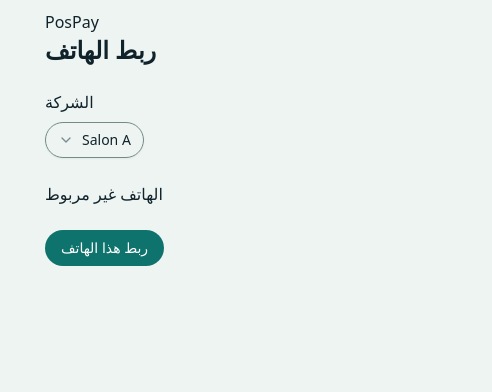
Test: offers two companies before binding and shows the linked company after binding and reopening
Later steps or results of the test are not shown.
Check: the button "ربط هذا الهاتف" is enabled, box [45,230,164,266]
Step 1. Press Enter in the dropdown named "الشركة", box [45,122,144,158]
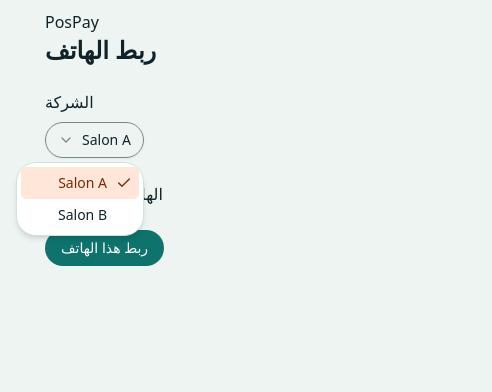
Step 2. Press Enter in the option "Salon B", box [58,205,107,224]
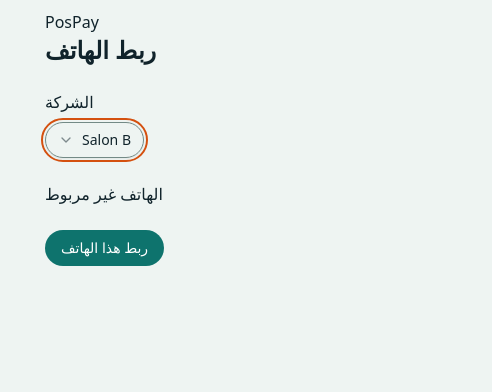
Step 3. Click the button "ربط هذا الهاتف" → (105, 248), box [45,230,164,266]
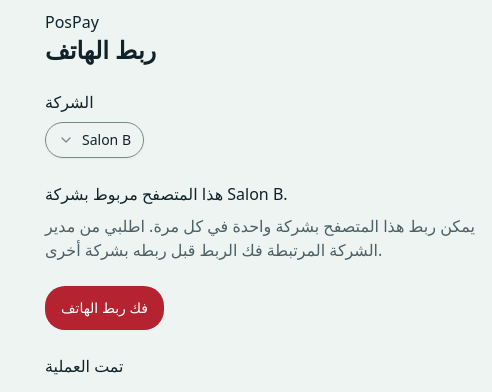
Check: the text "يمكن ربط هذا المتصفح بشركة واحدة في كل مرة. اطلبي من مدير الشركة المرتبطة فك الربط قبل ربطه بشركة أخرى." is shown, box [45,215,475,261]
Check: the button "ربط هذا الهاتف" is gone
